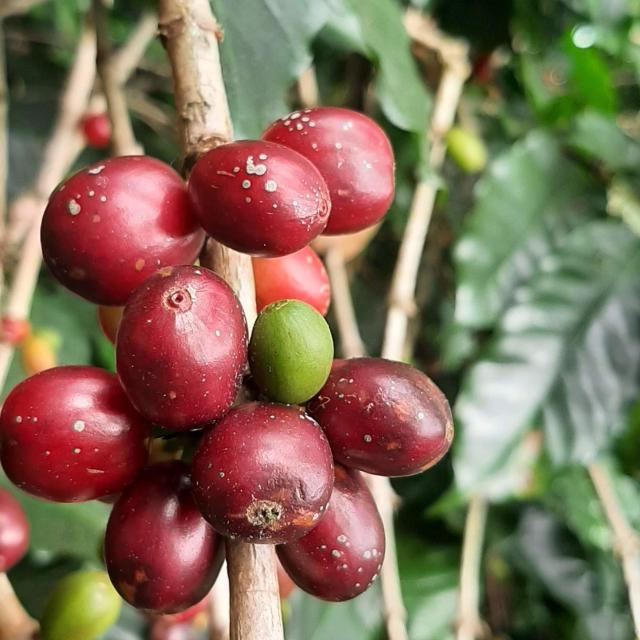green: (248, 299, 334, 404), (40, 571, 122, 640)
red: (40, 155, 205, 306), (115, 265, 247, 431), (0, 366, 150, 503), (191, 403, 334, 545), (104, 461, 224, 615), (307, 358, 455, 478), (260, 106, 394, 235), (188, 140, 331, 257), (278, 464, 385, 603), (252, 246, 331, 316)
